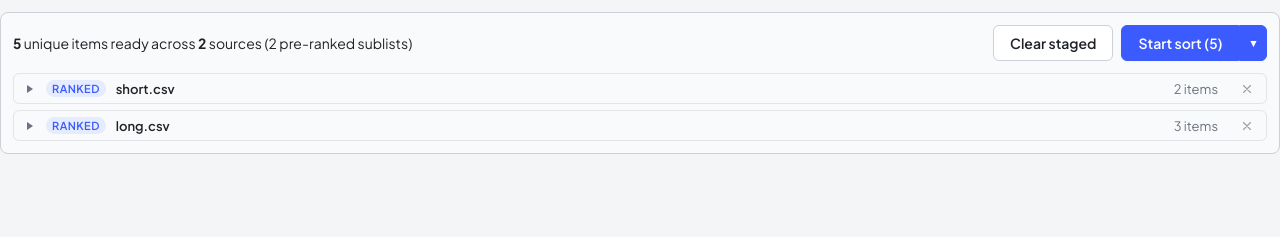
Test: StagedItemsPanel · Start Sort split-button › shows ANCHOR on only the first ranked sublist in insertion mode
The width and height of the screenshot is (1280, 237).
Click the button with class "staged-panel-start-caret" at x=1253, y=43, box [1240, 25, 1267, 61]
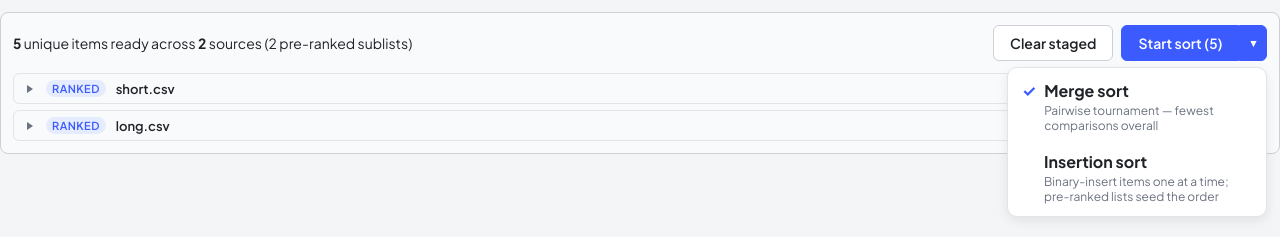
Click the menu item with class "staged-panel-start-menu-item" that starts with "Insertion sort" at x=1137, y=178, box [1012, 143, 1262, 212]
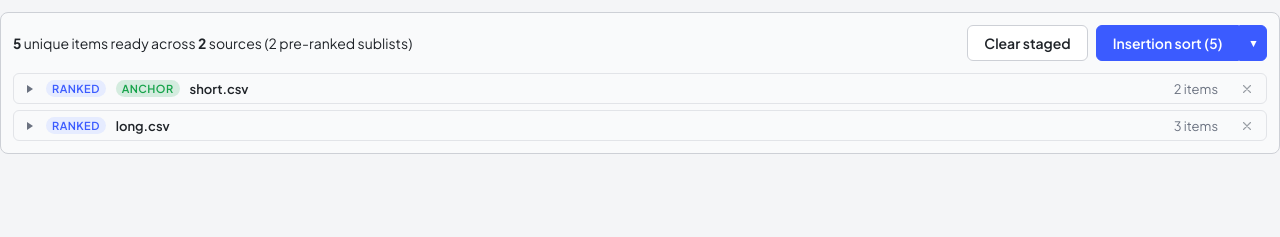
Expected: the list item with class "staged-panel-group-anchor" shows "short.csv", [14, 74, 1228, 103]
Now the number of elements with class "staged-panel-group-anchor" is 1, box [116, 80, 180, 97]
Now the text with class "staged-panel-group-anchor" reads "anchor", box [122, 82, 174, 95]
